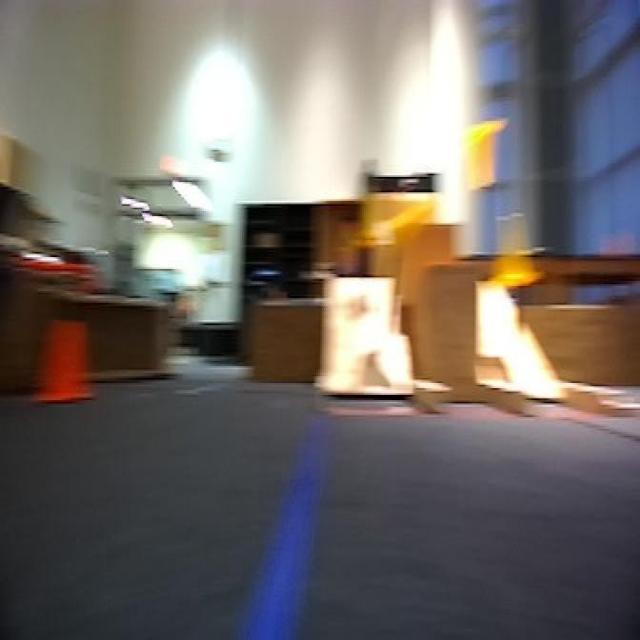frc_cone: (489, 204, 542, 300), (462, 110, 503, 190), (390, 197, 438, 252), (361, 186, 391, 250)
